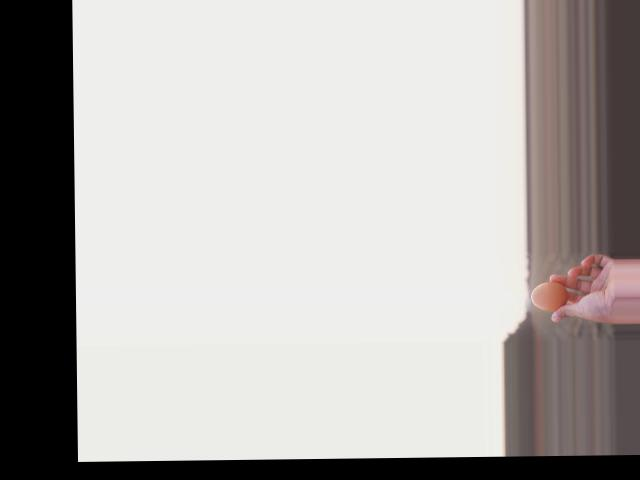egg: (530, 281, 567, 310)
